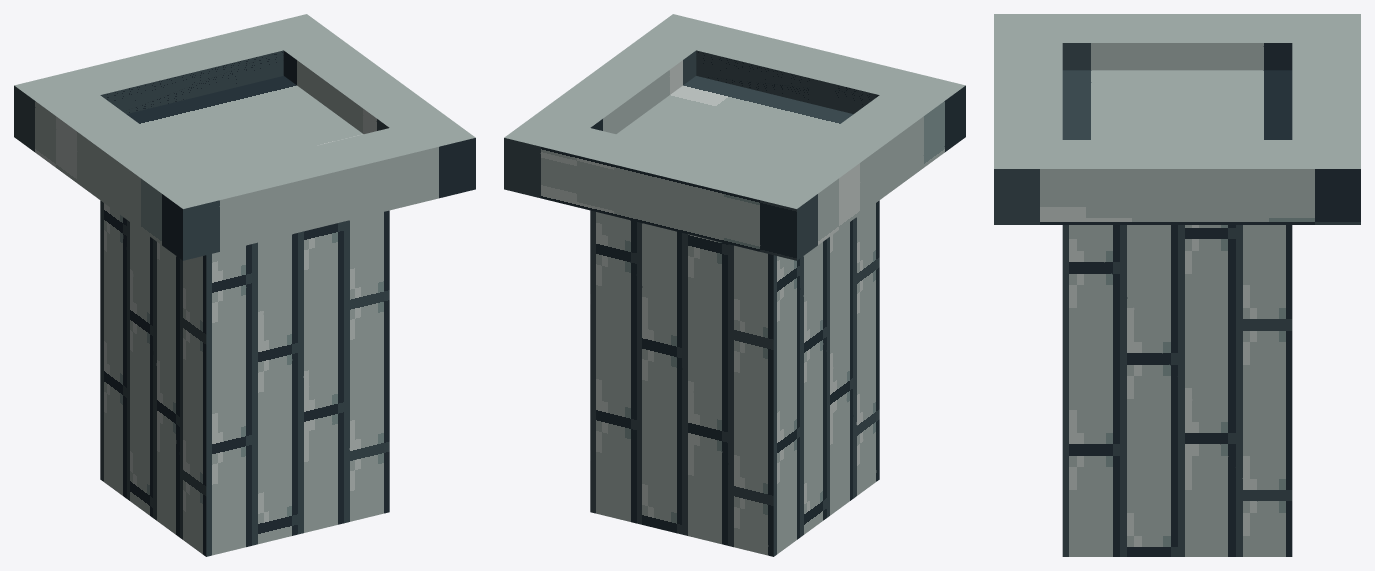
File: chimney.glb
3 renders of one model, left to right at view 1: azimuth 30°, elevation 25°; view 2: azimuth 150°, elevation 25°; view 3: azimuth 270°, elevation 25°, orthographic. The views are drawn at different scales.
Visible parts, largest first — view 1: 立方体; view 2: 立方体; view 3: 立方体.
Boxes of the visible parts, box(x1,y1,x2,y2) form: 立方体: box(14, 14, 475, 556); 立方体: box(504, 14, 965, 556); 立方体: box(994, 14, 1360, 556).
Bounding box in the file's own units: 1.6 × 2 × 1.6.
Materials: 1 (1 with a texture image).
